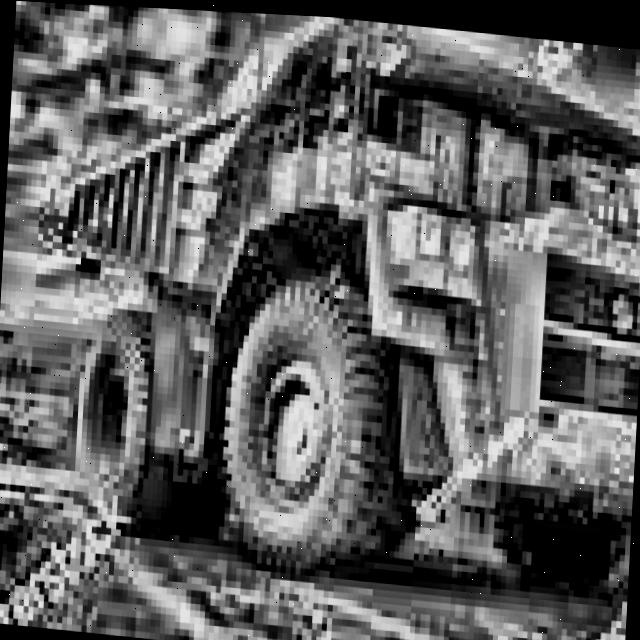dump_truck: (0, 0, 640, 622)
